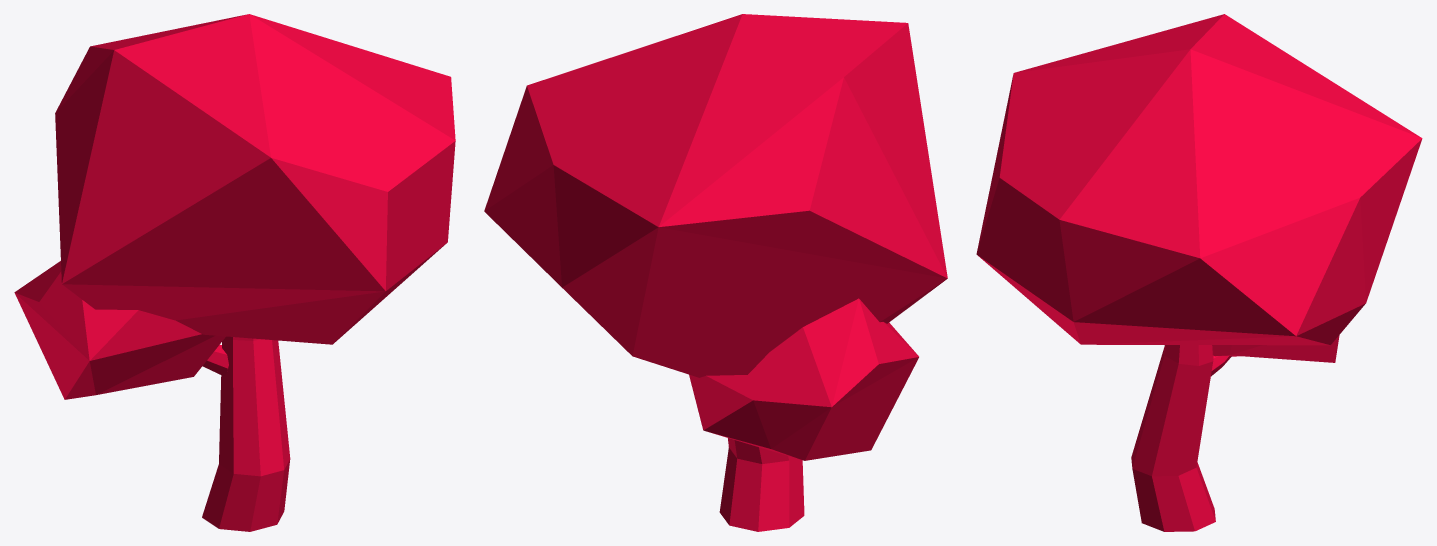
The model's file is Tree02.fbx.
3 renders of one model, left to right at view 1: azimuth 30°, elevation 25°; view 2: azimuth 150°, elevation 25°; view 3: azimuth 270°, elevation 25°, orthographic. The views are drawn at different scales.
Visible parts, largest first — view 1: Tree02; view 2: Tree02; view 3: Tree02.
Part boxes in pixels (box(x1,y1,x2,y2)): Tree02: box(14, 14, 455, 531); Tree02: box(484, 14, 947, 531); Tree02: box(976, 14, 1422, 531).
Bounding box in the file's own units: 666 × 781 × 668.
